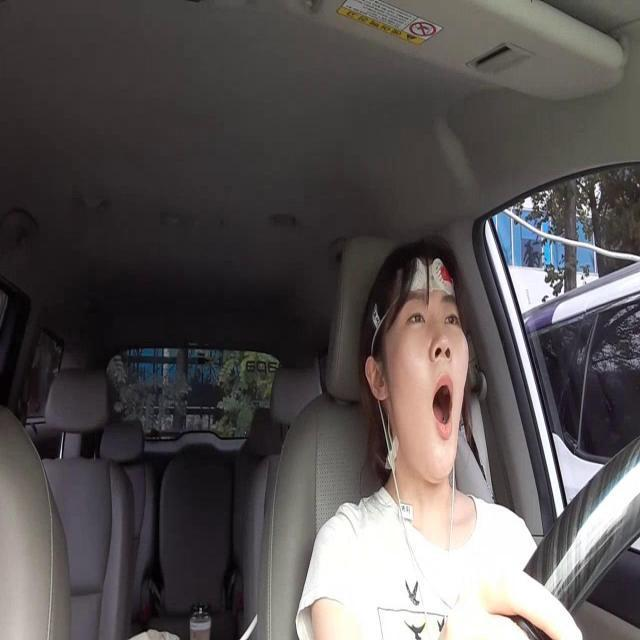Attentive: (364, 234, 469, 486)
Yawning: (428, 371, 456, 444)
